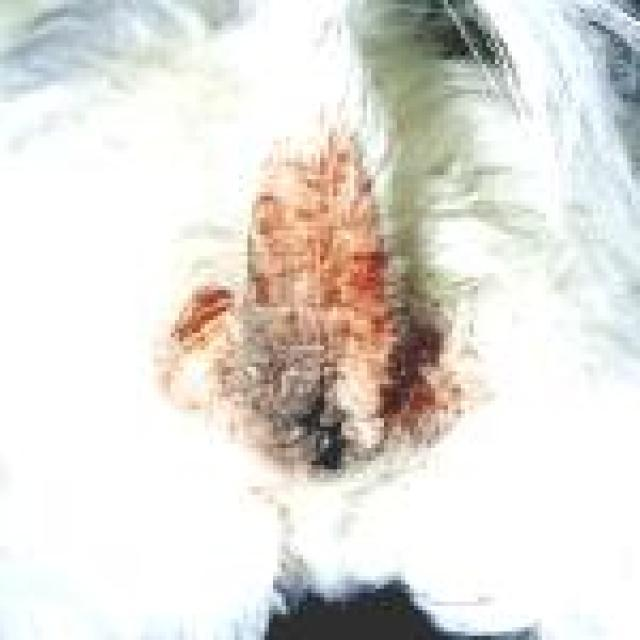fungal infection: (241, 169, 385, 335), (159, 294, 275, 448), (392, 277, 485, 442), (284, 343, 376, 472)
